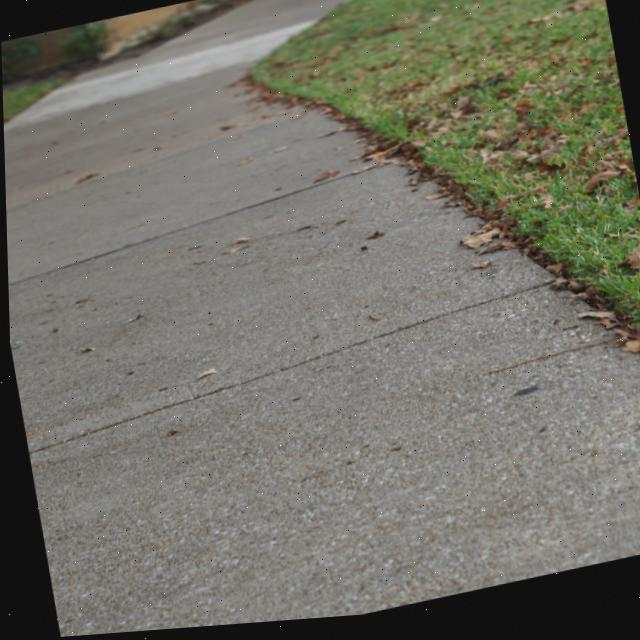Sidewalk: (3, 0, 640, 638)
